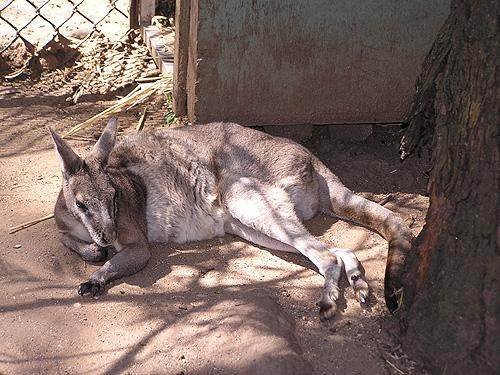Bridled-nail-tail wallaby: (47, 111, 411, 318)
